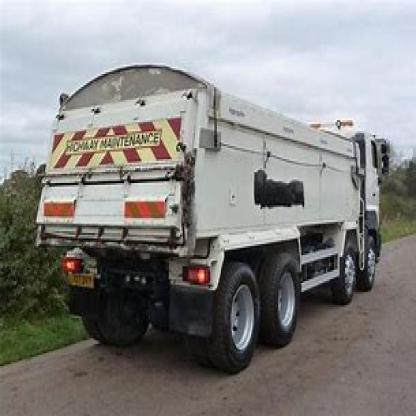dump_truck: (40, 52, 401, 364)
